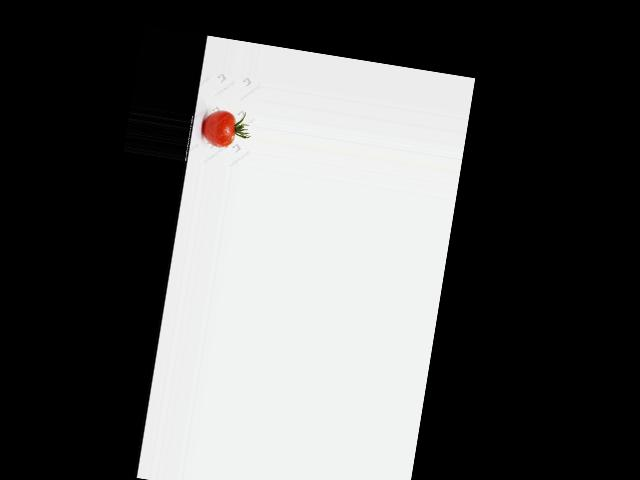tomato: (200, 107, 237, 148)
